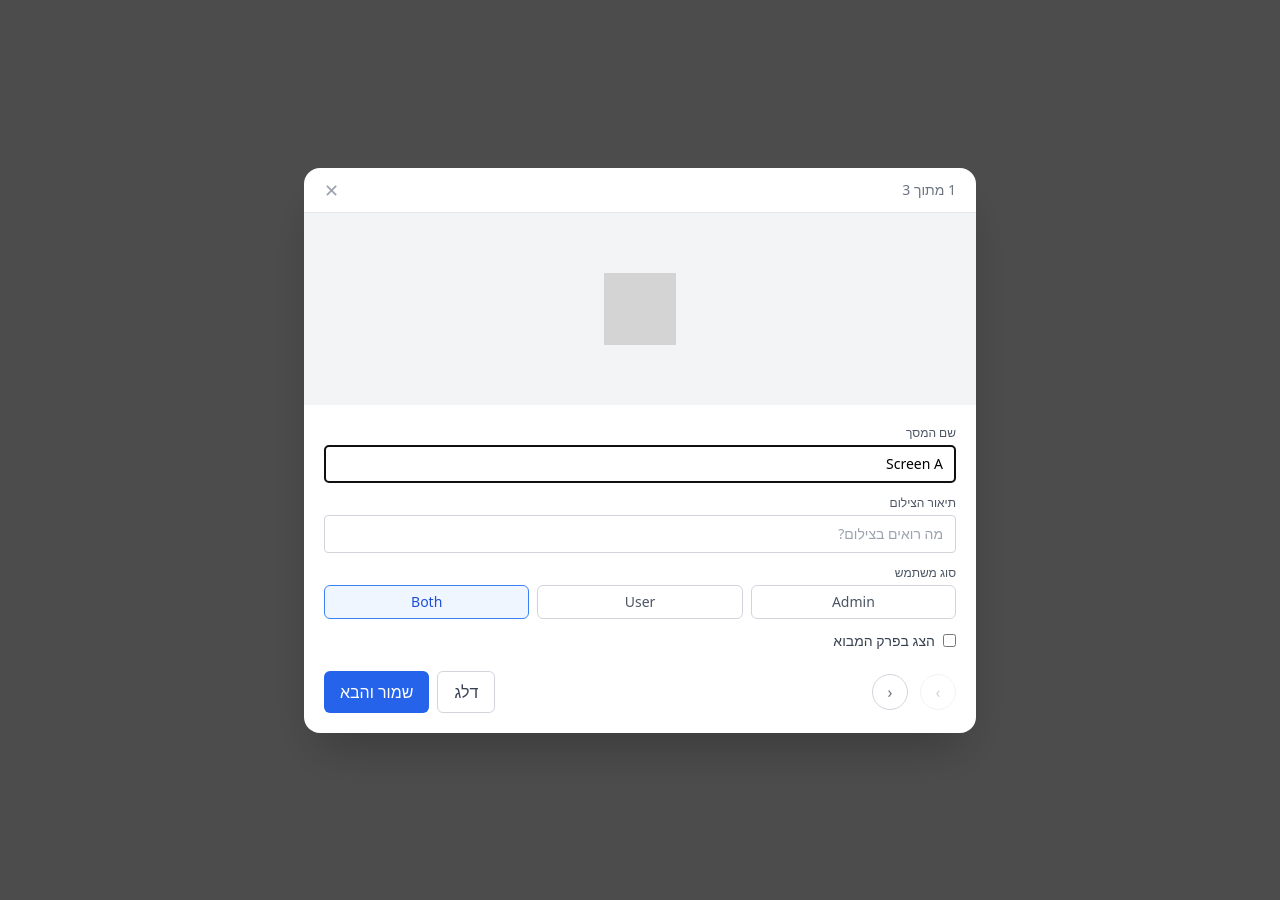
ScreenshotCarousel › saves and advances to next on Save & Next
Replace the text in the field showing "Screen A" with "Login Screen". click: x=640, y=464
box: [324,444,956,482]
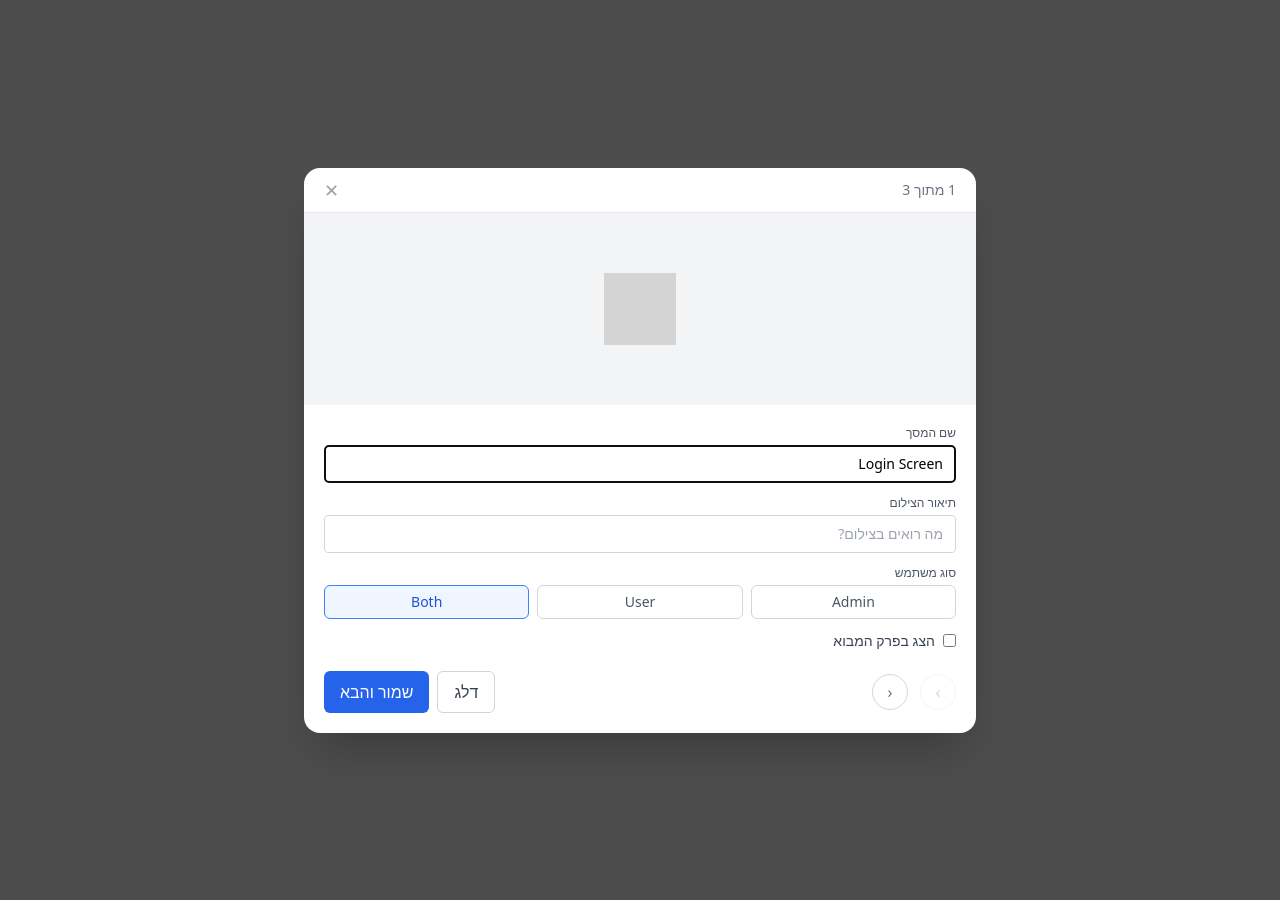
Click the button "שמור והבא". click: x=377, y=692
box: [324,670,430,712]
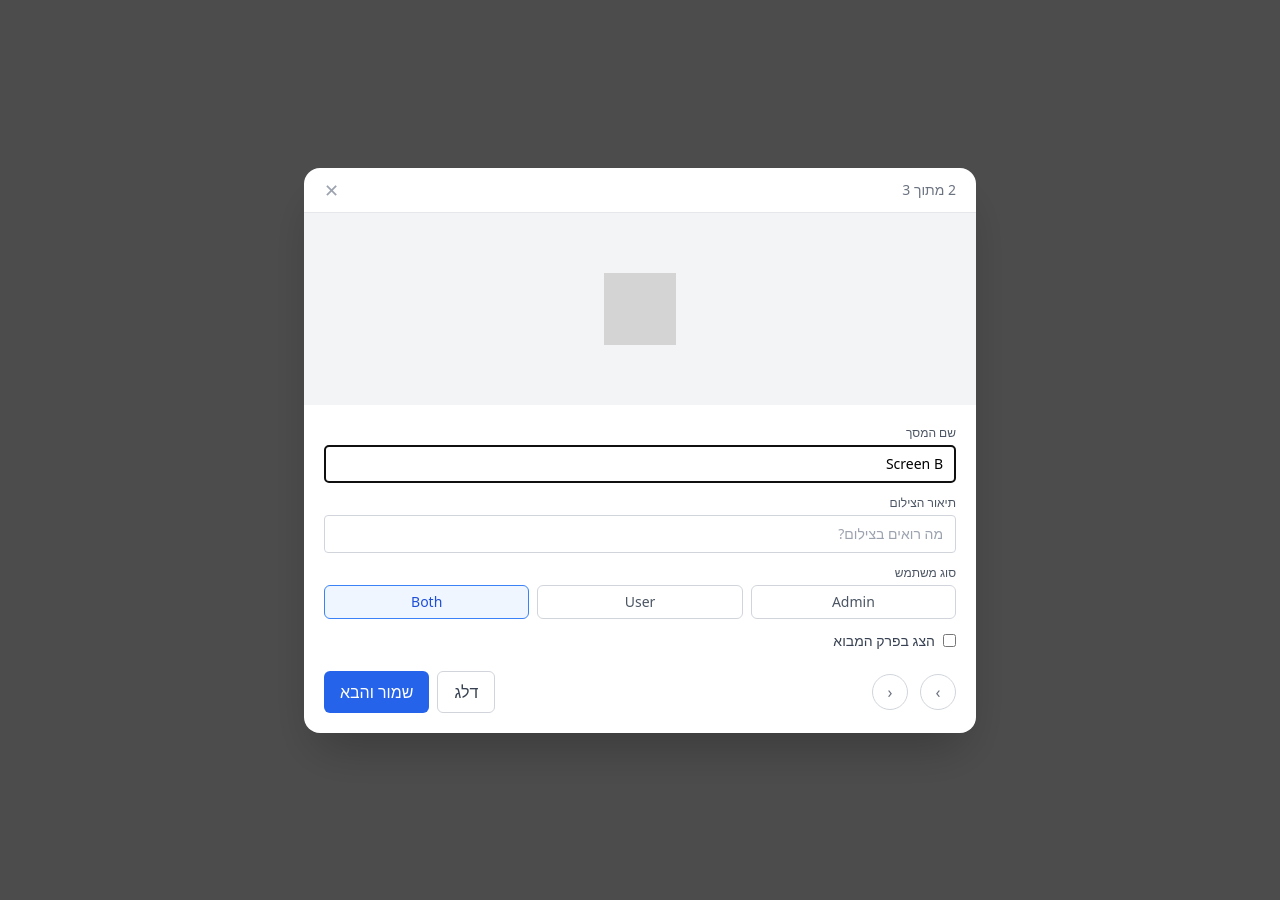
Now the text "2 מתוך 3" is shown, box [902,180,956,200]
